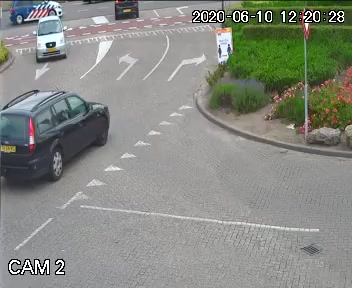car: (0, 76, 114, 184), (29, 15, 70, 69), (6, 2, 67, 32), (109, 0, 145, 19)
